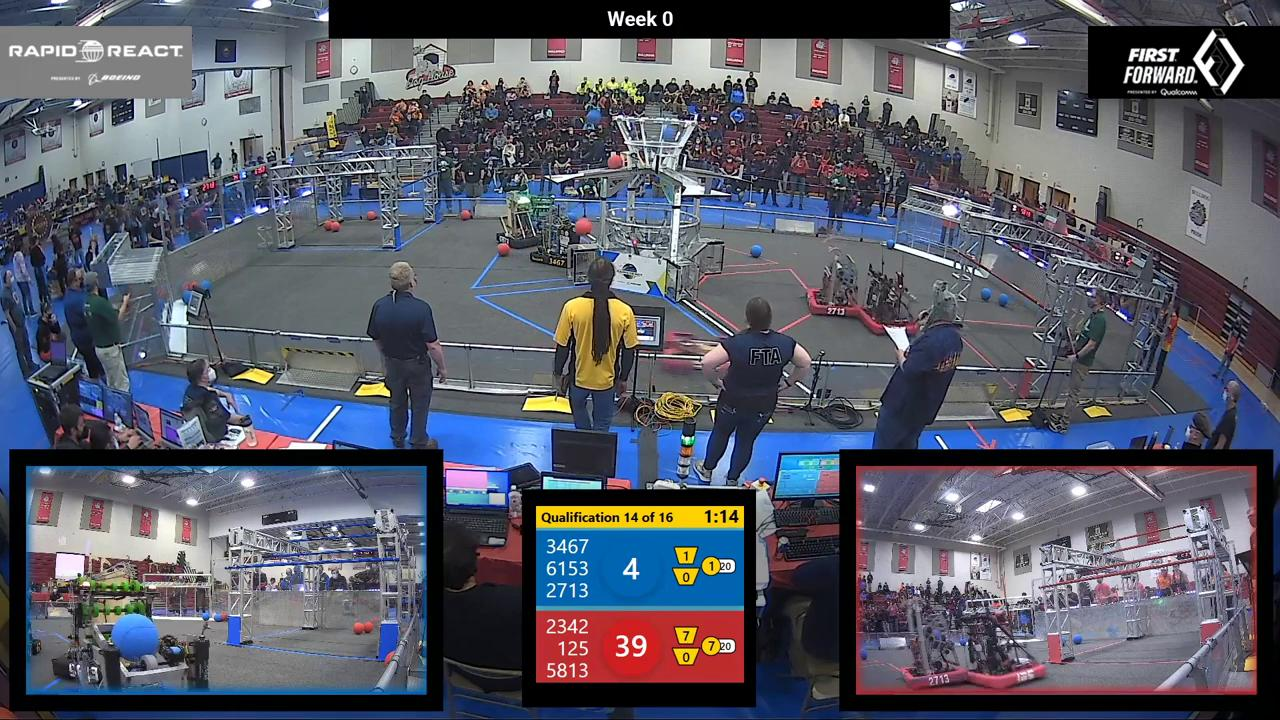robot: (54, 572, 168, 692), (966, 612, 1044, 681), (900, 616, 964, 685), (862, 276, 911, 337), (803, 261, 856, 317), (661, 326, 693, 368)
